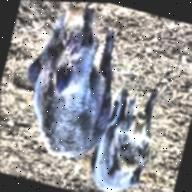boar: (15, 0, 131, 175), (79, 72, 172, 192)
